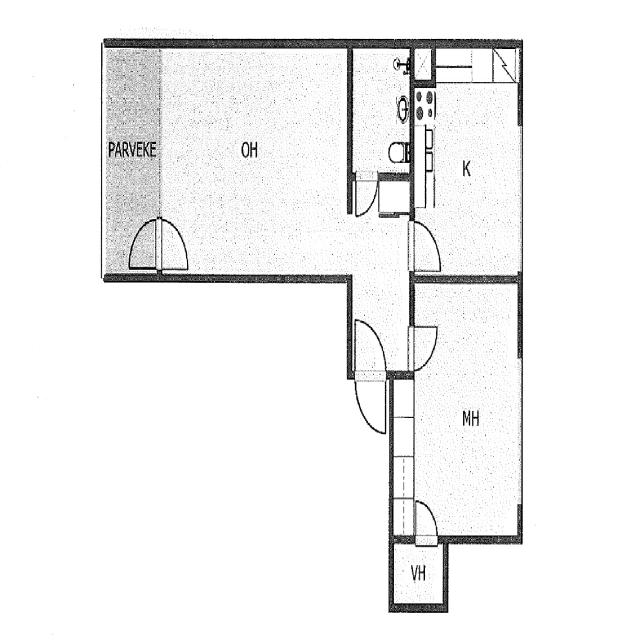door: (352, 314, 389, 435), (160, 214, 191, 274), (127, 215, 159, 270), (412, 216, 440, 272), (411, 322, 440, 374), (412, 496, 440, 542), (354, 173, 379, 218)
zone: (158, 42, 348, 279), (413, 278, 522, 542), (412, 42, 522, 278), (351, 45, 412, 175), (391, 539, 446, 607)
